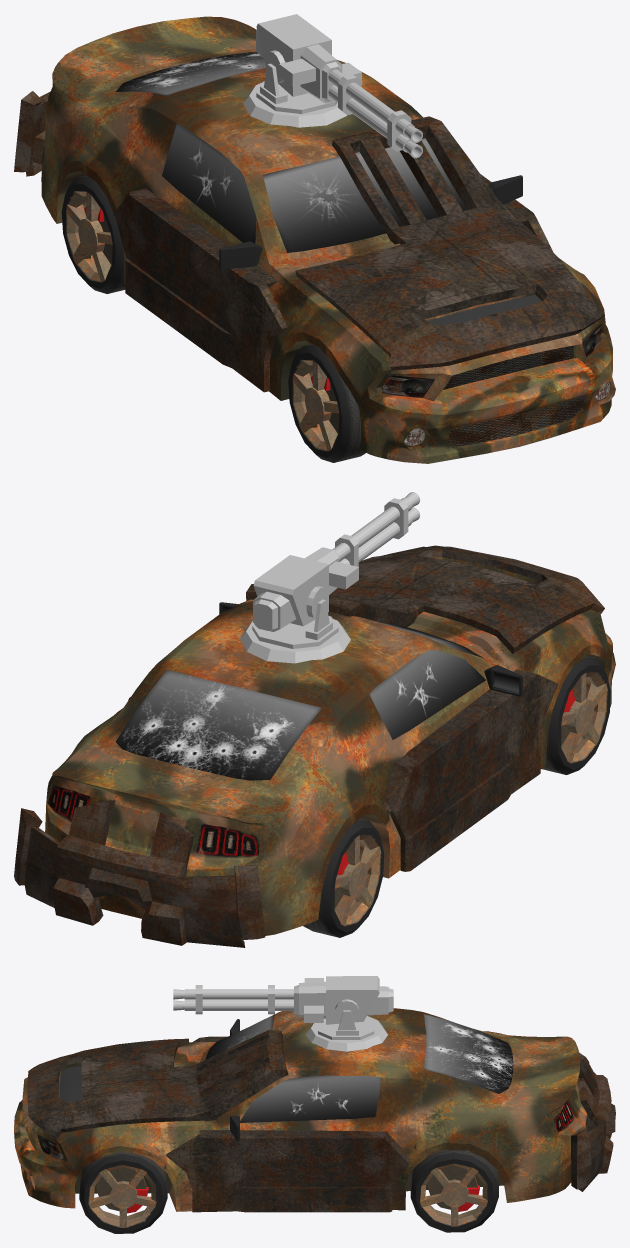
Rendered from Car_Alessandro Barcaioli4.fbx.
3 renders of one model, top to bottom at view 1: azimuth 30°, elevation 25°; view 2: azimuth 150°, elevation 25°; view 3: azimuth 270°, elevation 25°, orthographic. The views are drawn at different scales.
Parts seen in each view (by area): view 1: Car, Protection, Turret_Moving, Wheel_GFX_FR, Wheel_GFX_RR, Turret_Base, Turret; view 2: Car, Protection, Turret_Moving, Wheel_GFX_RR, Wheel_GFX_FR, Turret_Base, Turret; view 3: Car, Protection, Turret_Moving, Wheel_GFX_RL, Wheel_GFX_FL, Turret, Turret_Base.
Part boxes in pixels (<box>): Car: <box>41,16,615,463</box>; Protection: <box>14,91,604,392</box>; Turret_Moving: <box>256,14,422,158</box>; Wheel_GFX_FR: <box>288,344,365,462</box>; Wheel_GFX_RR: <box>61,175,125,293</box>; Turret_Base: <box>243,82,346,127</box>; Turret: <box>256,63,337,113</box>; Car: <box>45,557,615,935</box>; Protection: <box>14,545,604,947</box>; Turret_Moving: <box>253,492,420,631</box>; Wheel_GFX_RR: <box>303,818,384,937</box>; Wheel_GFX_FR: <box>542,656,610,774</box>; Turret_Base: <box>240,619,350,663</box>; Turret: <box>252,599,338,648</box>; Car: <box>14,1008,588,1211</box>; Protection: <box>27,1029,615,1212</box>; Turret_Moving: <box>173,976,393,1024</box>; Wheel_GFX_RL: <box>410,1150,498,1232</box>; Wheel_GFX_FL: <box>79,1152,167,1233</box>; Turret: <box>318,1010,374,1039</box>; Turret_Base: <box>306,1016,387,1051</box>.
Size of the model in its own units: 2.16 by 1.92 by 5.08.
